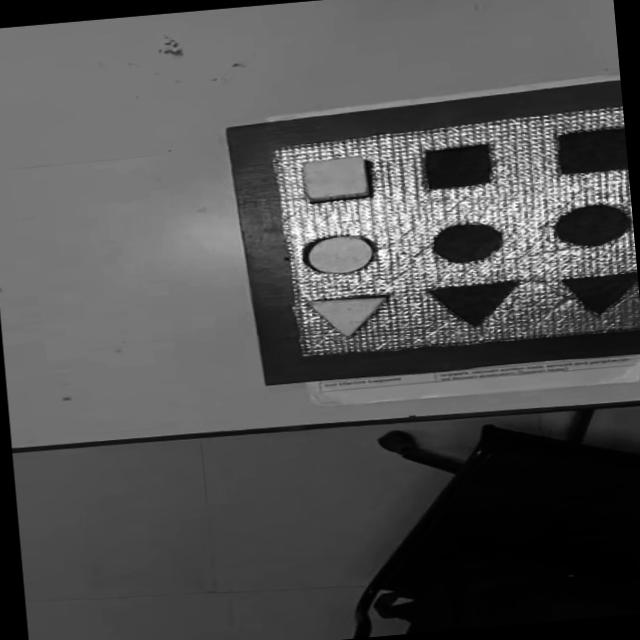mtcircle: (550, 201, 634, 250), (428, 218, 508, 266)
mtcube: (552, 125, 628, 178), (421, 142, 496, 192)
mttriangle: (426, 278, 524, 332), (557, 268, 640, 320)
wb: (266, 105, 640, 358)
ycircle: (302, 231, 378, 277)
ycube: (298, 154, 374, 206)
ytriangle: (304, 291, 392, 340)
